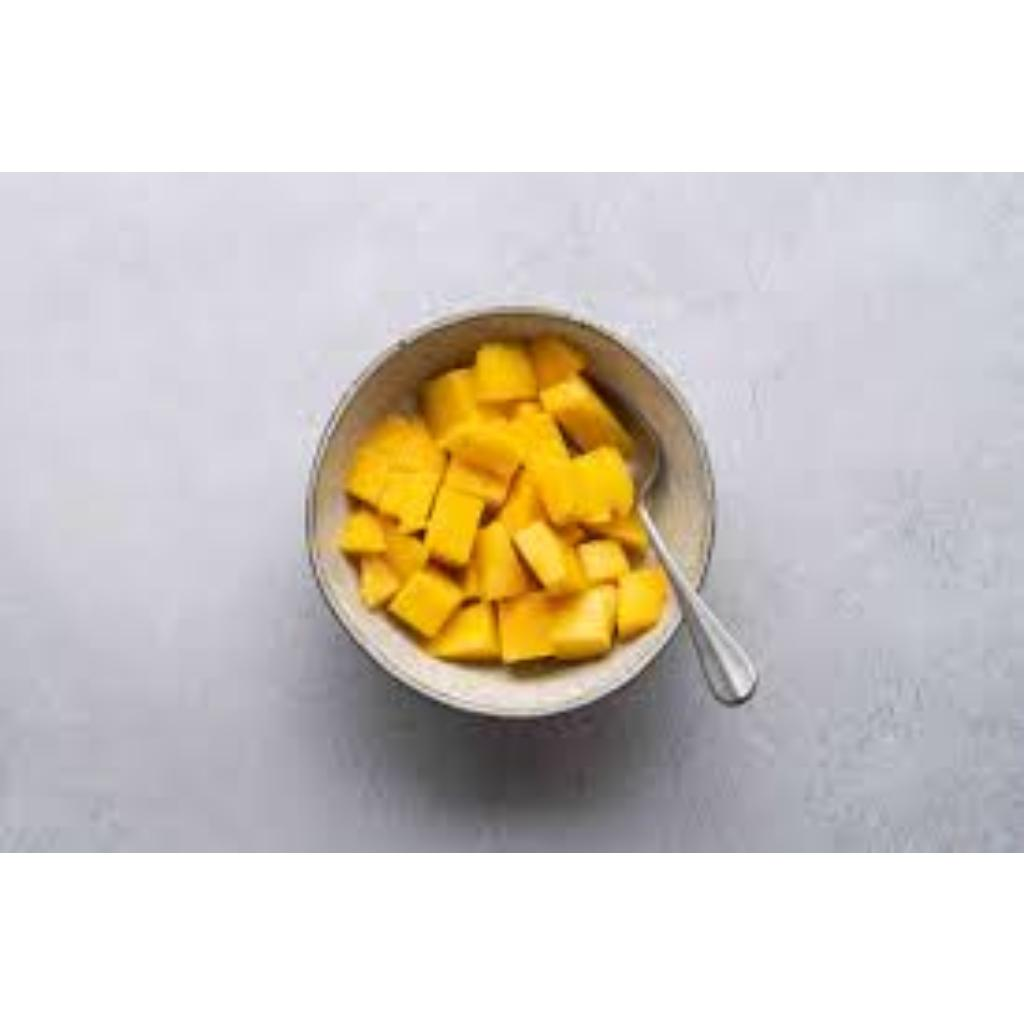mango: (335, 346, 681, 718)
